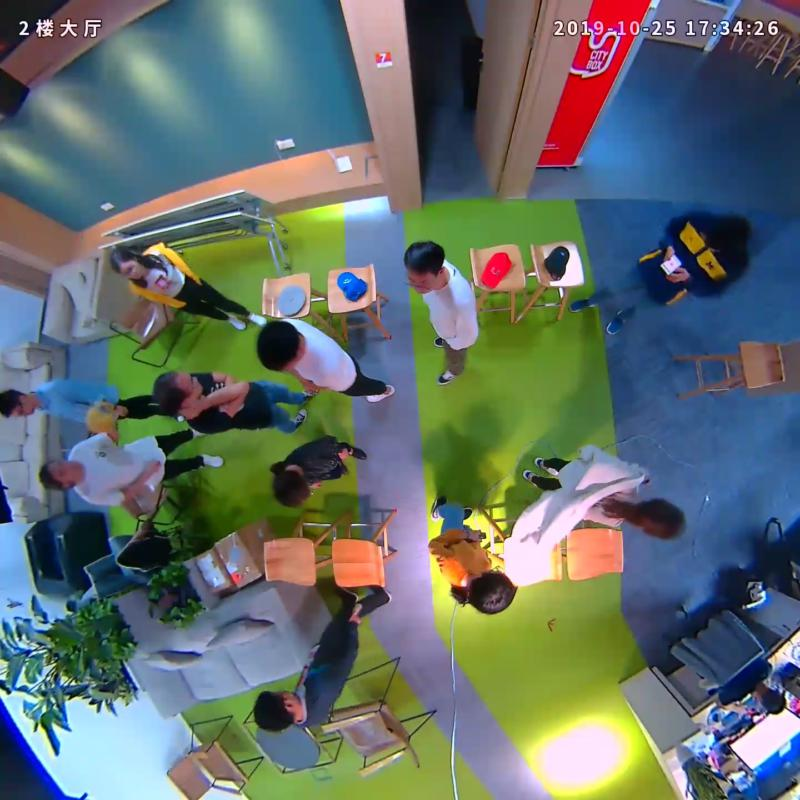head: (403, 239, 446, 295), (467, 568, 517, 616), (256, 320, 302, 371), (633, 499, 686, 540), (153, 370, 203, 412), (253, 689, 299, 733), (702, 214, 749, 255), (272, 469, 309, 507), (37, 459, 82, 489), (109, 248, 144, 279), (1, 388, 37, 418)
